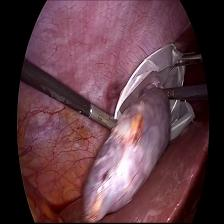Grasper: (89, 104, 122, 135), (170, 47, 201, 70), (157, 84, 176, 102)
Specimen Bag: (114, 40, 196, 142)
